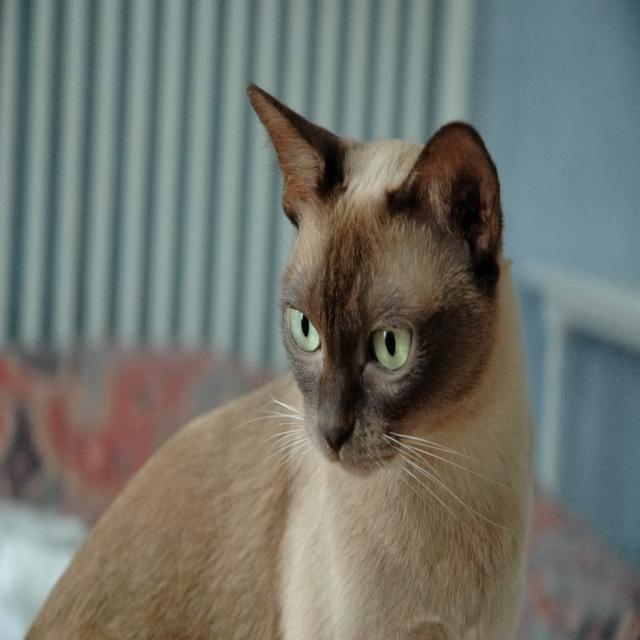Cat: (21, 80, 536, 639)
